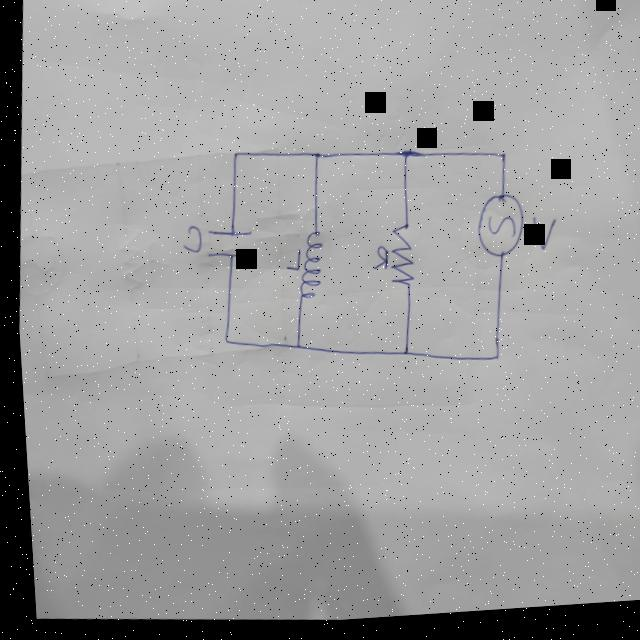capacitor: (200, 224, 253, 266)
inductor: (291, 229, 323, 303)
junction: (394, 151, 408, 166), (307, 151, 320, 167), (227, 148, 239, 163), (217, 333, 228, 349), (394, 349, 406, 363), (494, 155, 505, 168), (289, 341, 298, 354), (486, 356, 496, 367)
resistor: (381, 224, 417, 294)
source: (470, 193, 525, 265)
text: (525, 220, 554, 259), (176, 223, 200, 257), (367, 246, 386, 274), (279, 248, 298, 274)
